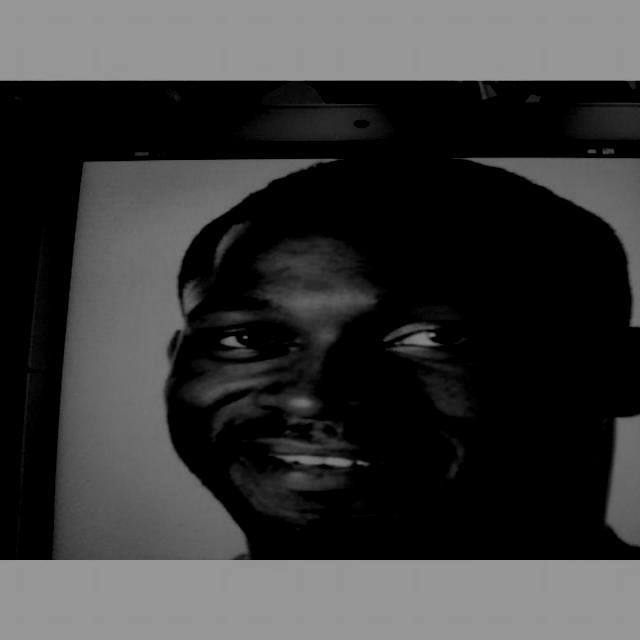fake: (9, 98, 640, 558)
